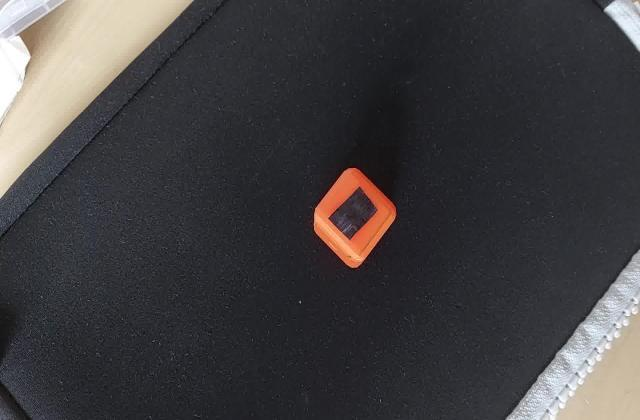black: (324, 188, 382, 240)
sticker: (312, 166, 398, 274)
